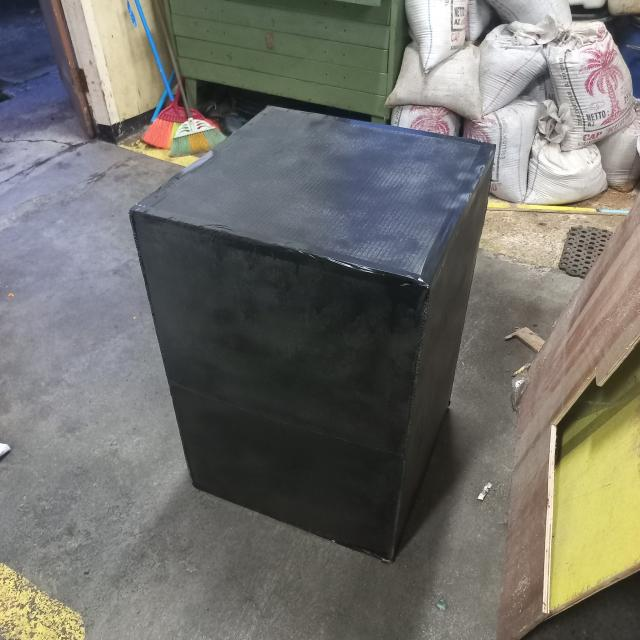obstacle: (130, 100, 498, 566)
